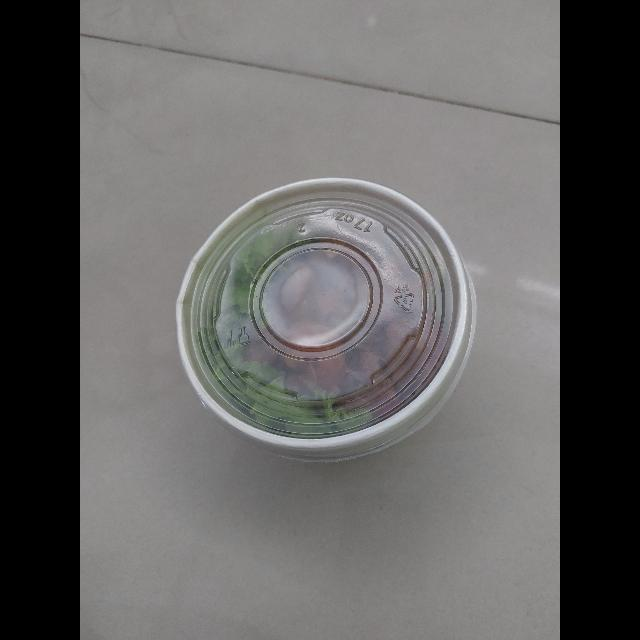rice-bowl: (160, 164, 492, 472)
